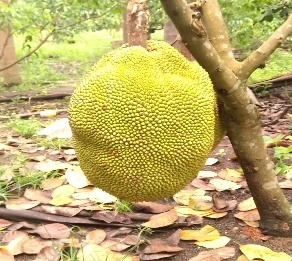Mit: (67, 47, 218, 205)
